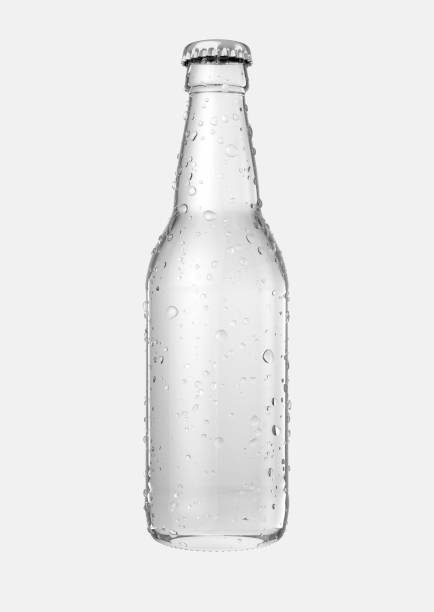glass_bottle: (139, 34, 299, 557)
